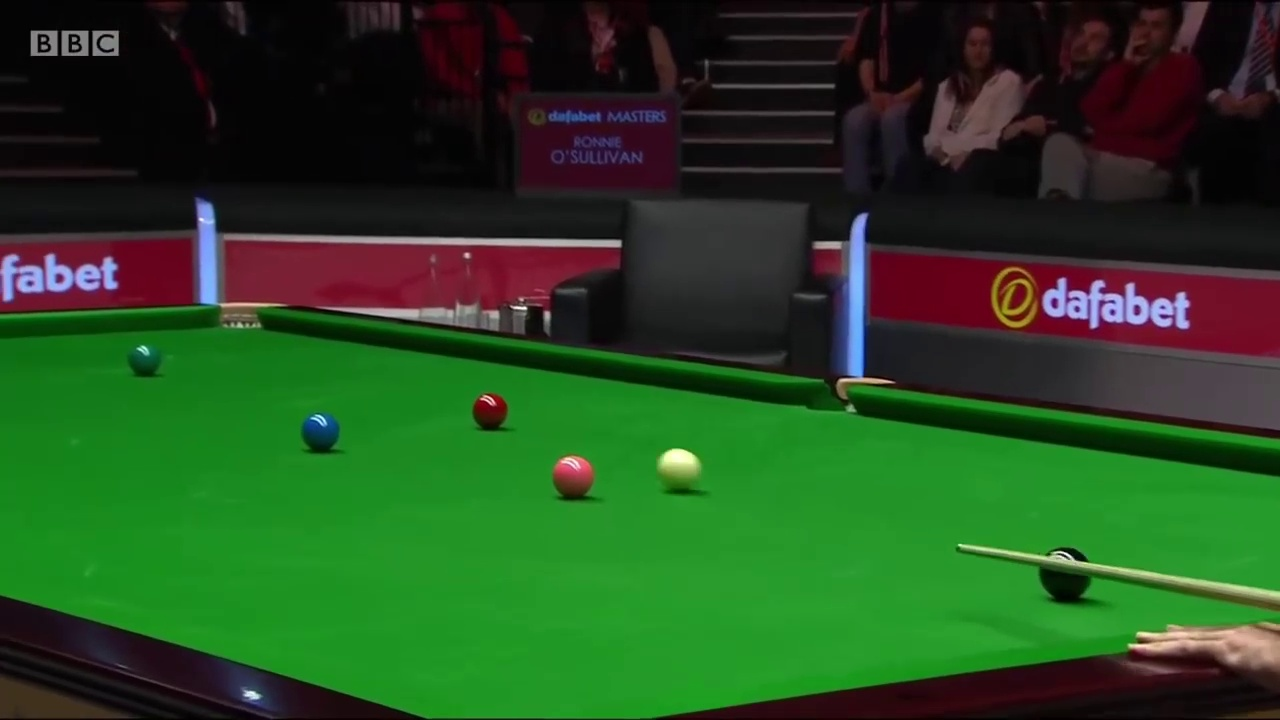blue: (300, 411, 339, 452)
green: (129, 345, 160, 373)
pink: (553, 457, 593, 498)
red: (471, 392, 507, 429)
white: (657, 449, 702, 493)
